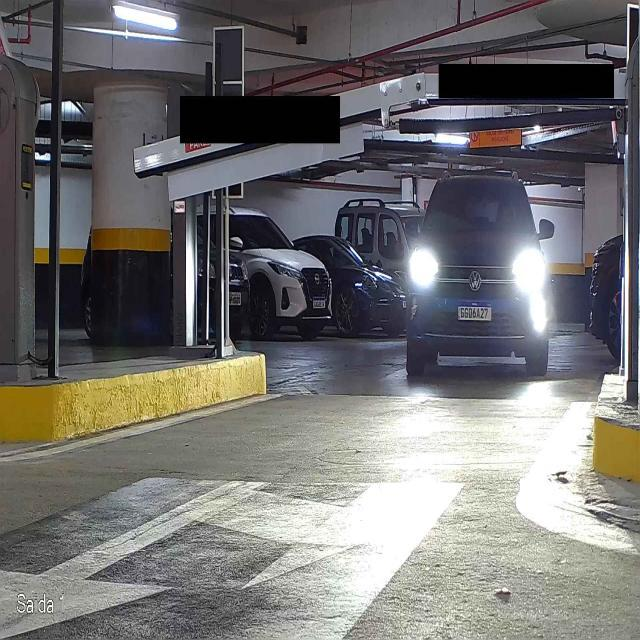mercosul_plate: (456, 301, 493, 322)
